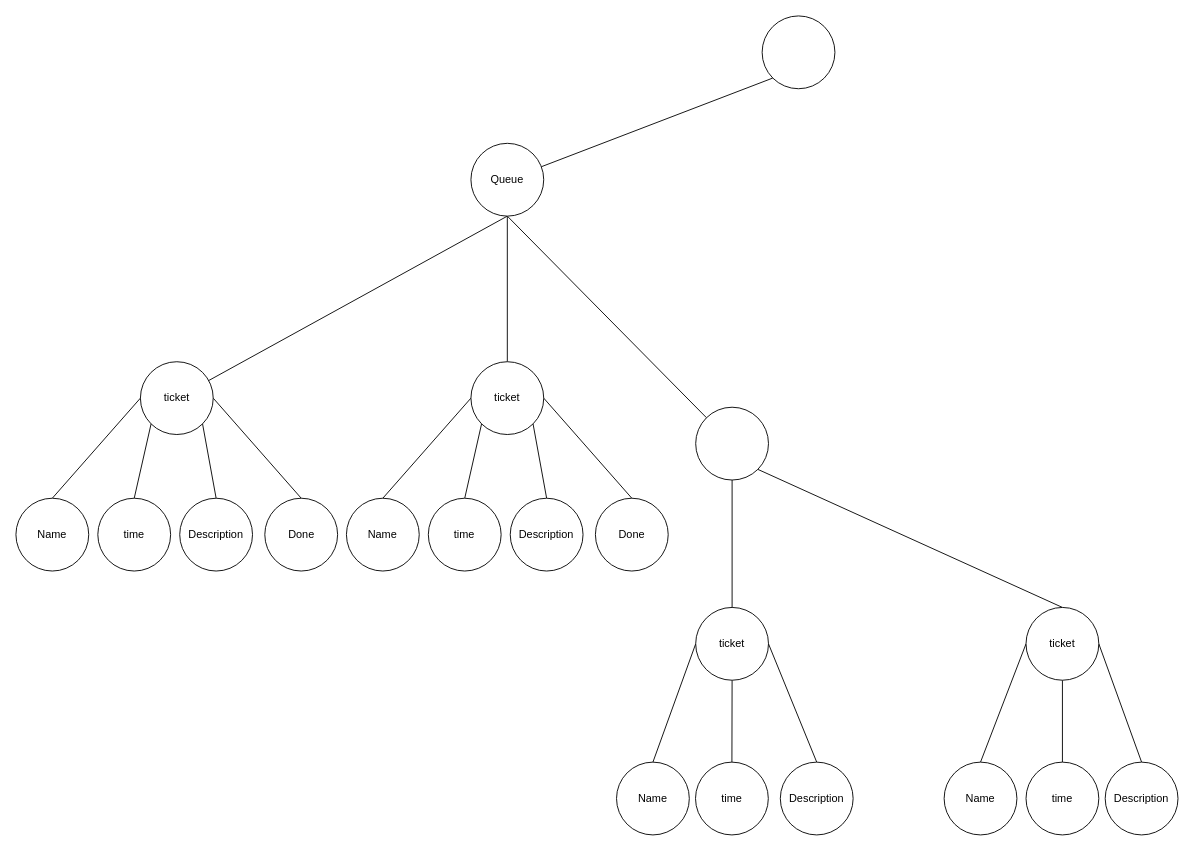
The diagram is 1194 pixels wide and 851 high, and some of its shapes have lost their labels. Each missing label, with the box of its shape:
Completed: (695, 406, 768, 480)
title: (761, 15, 835, 89)
